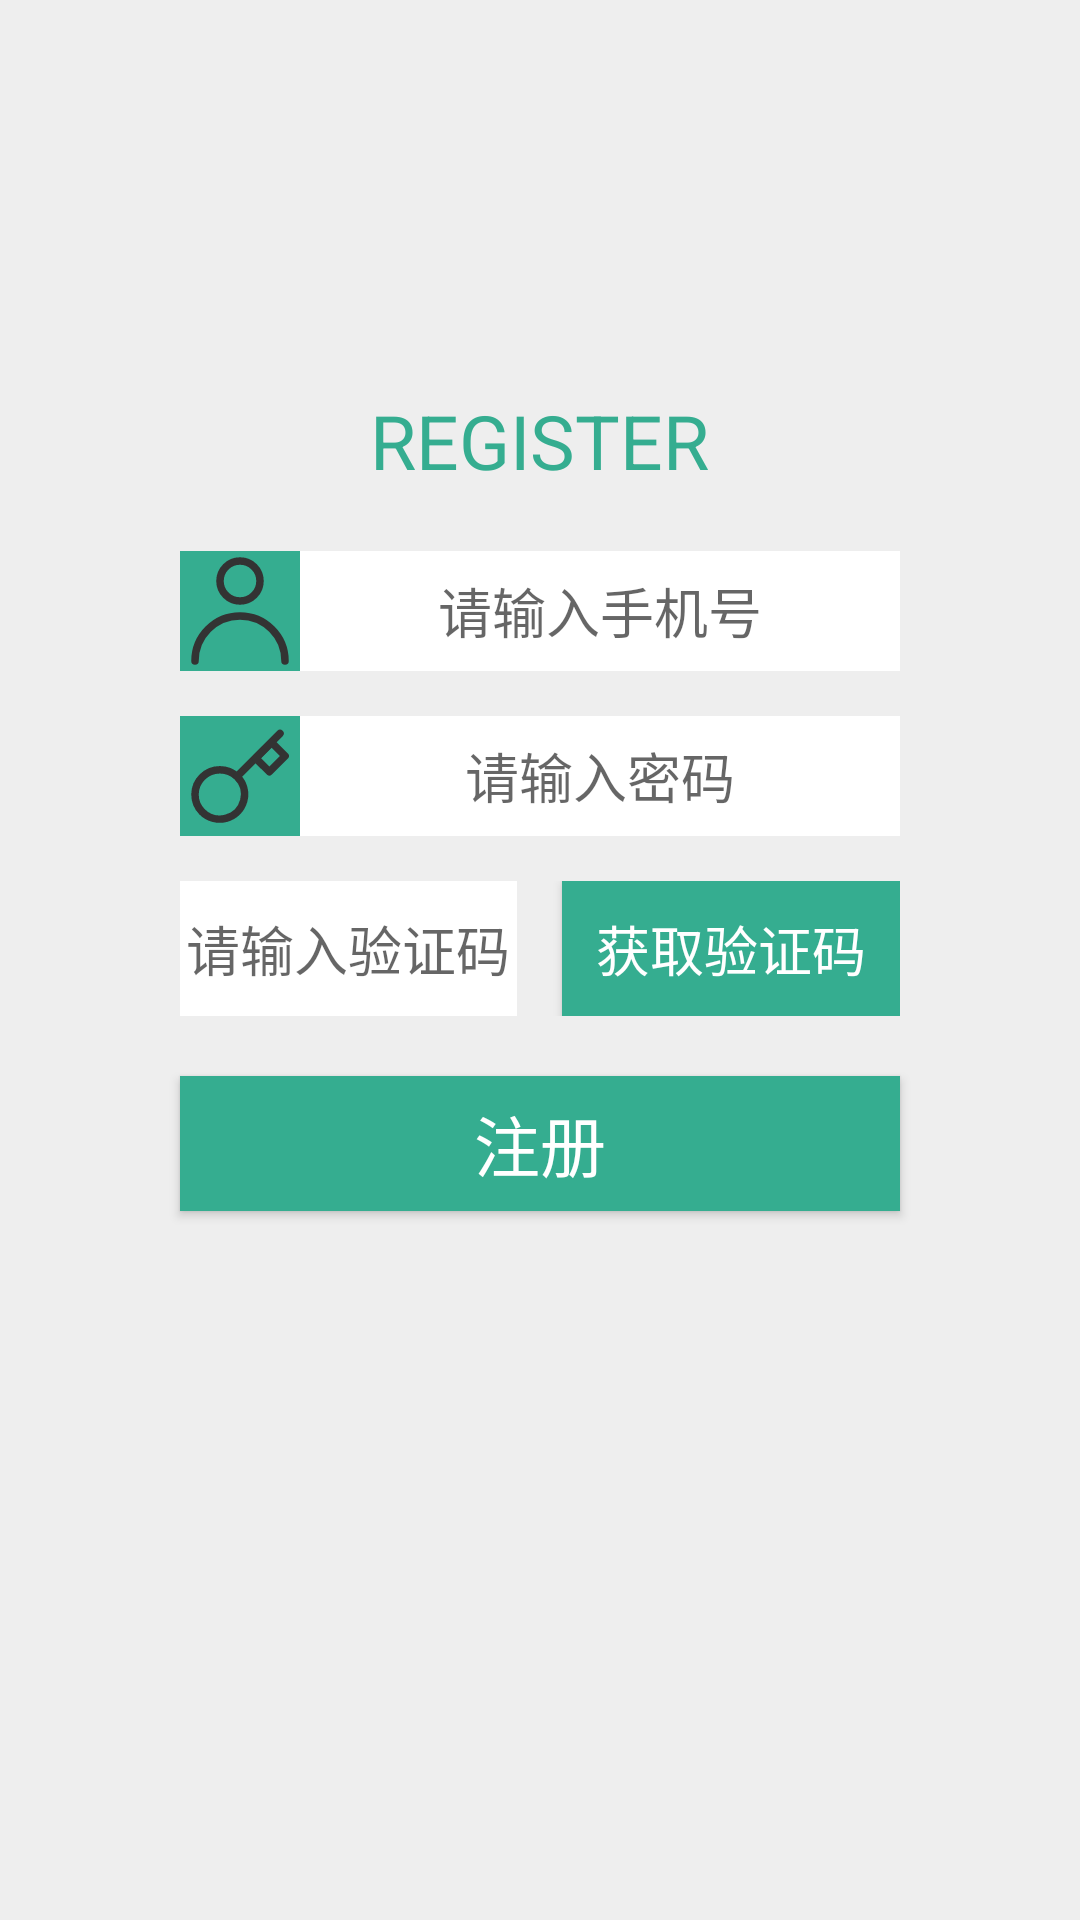

Screen size 1080×1920. Icon name, then its box in pixels as (left=x1, top=y1, right=x2, bottom=y2):
key: (left=180, top=716, right=300, bottom=836)
user: (left=180, top=551, right=300, bottom=671)
